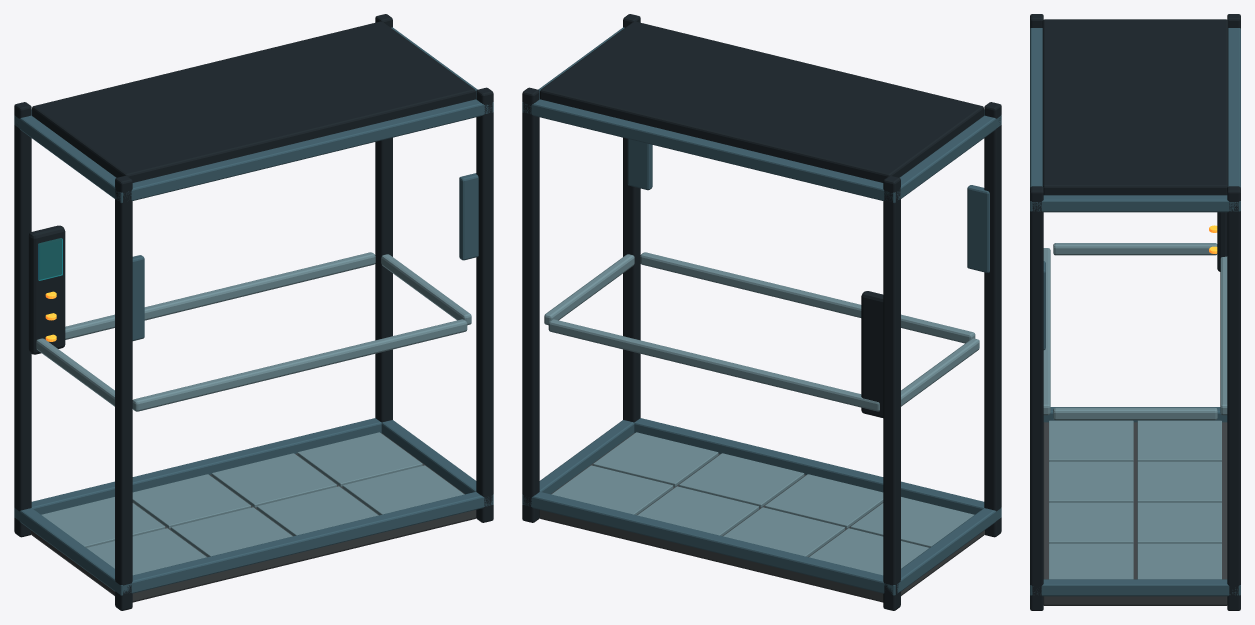
The model's file is 03_industrial_2x1.glb.
The picture shows the model from 3 angles, left to right: view 1: azimuth 30°, elevation 25°; view 2: azimuth 150°, elevation 25°; view 3: azimuth 270°, elevation 25°; orthographic projection. The views are drawn at different scales.
Visible parts, largest first — view 1: Ceiling_Frame, Corner_Post_-1_-1, Corner_Post_1_-1, Corner_Post_-1_1, Lower_Rail_North.002, Upper_Rail_North.002, Lower_Rail_South.002, Corner_Post_1_1, Handrail_North.002, Cabin_Control_Housing, Floor_Base.002, Handrail_South.002 (+16 smaller); view 2: Ceiling_Frame, Corner_Post_-1_1, Corner_Post_1_1, Corner_Post_-1_-1, Lower_Rail_South.002, Upper_Rail_South.002, Lower_Rail_North.002, Handrail_South.002, Corner_Post_1_-1, Floor_Base.002, Handrail_North.002, Floor_Plate_3_0 (+15 smaller); view 3: Ceiling_Frame, Corner_Post_1_-1, Corner_Post_1_1, Floor_Base.002, Floor_Plate_0_0.002, Floor_Plate_0_1.002, Floor_Plate_1_0.002, Floor_Plate_1_1.002, Floor_Plate_2_0, Floor_Plate_2_1, Upper_Rail_East.002, Lower_Rail_East.002 (+10 smaller).
Boxes of the visible parts, x1,y1,x2,y2 form: Ceiling_Frame: (32, 21, 475, 182); Corner_Post_-1_-1: (115, 175, 132, 610); Corner_Post_1_-1: (476, 87, 493, 522); Corner_Post_-1_1: (14, 102, 31, 537); Lower_Rail_North.002: (115, 492, 493, 595); Upper_Rail_North.002: (115, 99, 493, 202); Lower_Rail_South.002: (14, 418, 381, 520); Corner_Post_1_1: (375, 14, 392, 422); Handrail_North.002: (132, 319, 467, 411); Cabin_Control_Housing: (28, 225, 65, 354); Floor_Base.002: (31, 433, 476, 602); Handrail_South.002: (65, 252, 375, 339); Ceiling_Frame: (540, 21, 983, 182); Corner_Post_-1_1: (883, 175, 900, 610); Corner_Post_1_1: (522, 87, 539, 522); Corner_Post_-1_-1: (984, 102, 1001, 537); Lower_Rail_South.002: (522, 492, 900, 595); Upper_Rail_South.002: (522, 99, 900, 203); Lower_Rail_North.002: (634, 418, 1001, 517); Handrail_South.002: (548, 319, 879, 411); Corner_Post_1_-1: (623, 14, 640, 422); Floor_Base.002: (539, 433, 984, 602); Handrail_North.002: (640, 252, 975, 343); Floor_Plate_3_0: (593, 432, 718, 486); Ceiling_Frame: (1042, 19, 1228, 195); Corner_Post_1_-1: (1030, 186, 1043, 610); Corner_Post_1_1: (1227, 186, 1240, 610); Floor_Base.002: (1043, 422, 1227, 605); Floor_Plate_0_0.002: (1049, 420, 1133, 461); Floor_Plate_0_1.002: (1137, 420, 1221, 461); Floor_Plate_1_0.002: (1049, 461, 1133, 502); Floor_Plate_1_1.002: (1137, 461, 1221, 502); Floor_Plate_2_0: (1049, 502, 1133, 543); Floor_Plate_2_1: (1137, 502, 1221, 543); Upper_Rail_East.002: (1030, 195, 1240, 212); Lower_Rail_East.002: (1030, 579, 1240, 596).
Size of the model in its own units: 2 by 2.2 by 1.
